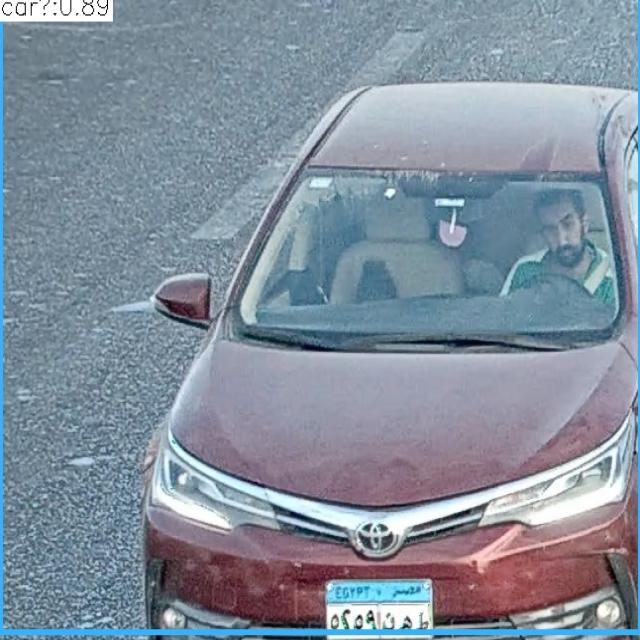windshield: (237, 169, 624, 337)
